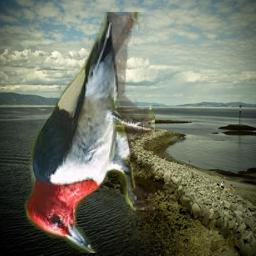Woodpecker: (24, 12, 155, 253)
